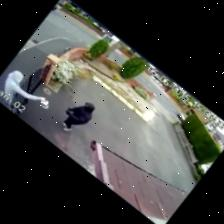person: (3, 71, 46, 101), (63, 103, 94, 132)
